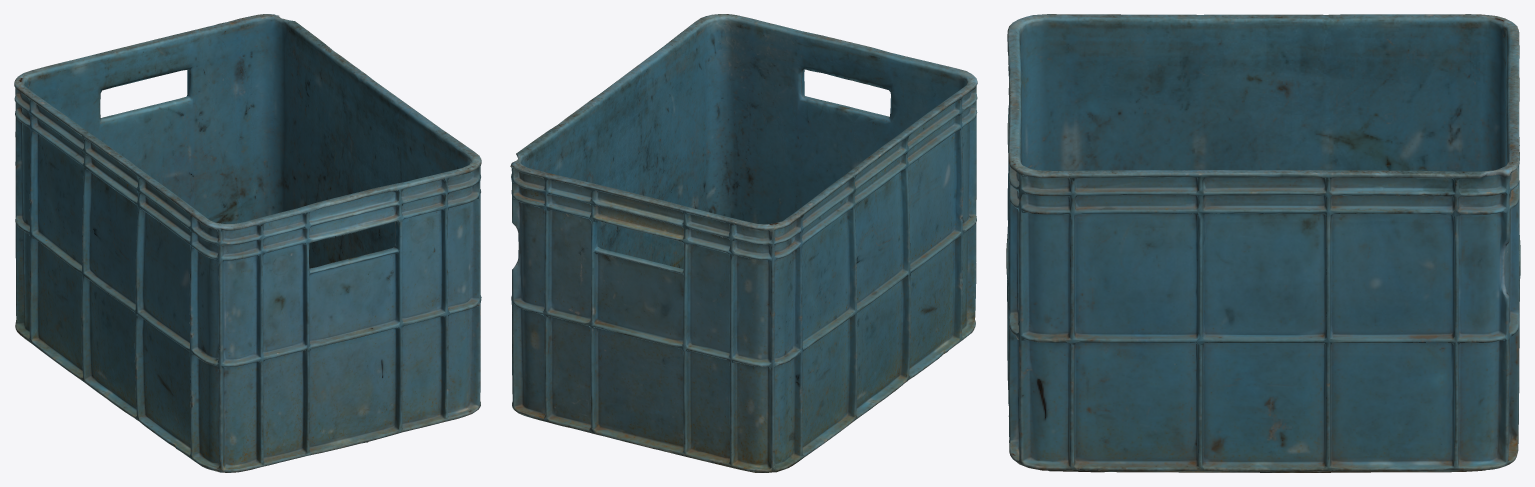
Rendered from plasticCrate_2.fbx.
The picture shows the model from 3 angles, left to right: view 1: azimuth 30°, elevation 25°; view 2: azimuth 150°, elevation 25°; view 3: azimuth 270°, elevation 25°; orthographic projection. The views are drawn at different scales.
Parts seen in each view (by area): view 1: Mesh; view 2: Mesh; view 3: Mesh.
Part boxes in pixels (x1,y1,x2,y2): Mesh: [14, 14, 481, 472]; Mesh: [510, 14, 977, 472]; Mesh: [1006, 14, 1520, 472].
Size of the model in its own units: 2.97 by 2.61 by 3.95.
Materials: 1 (1 with a texture image).
